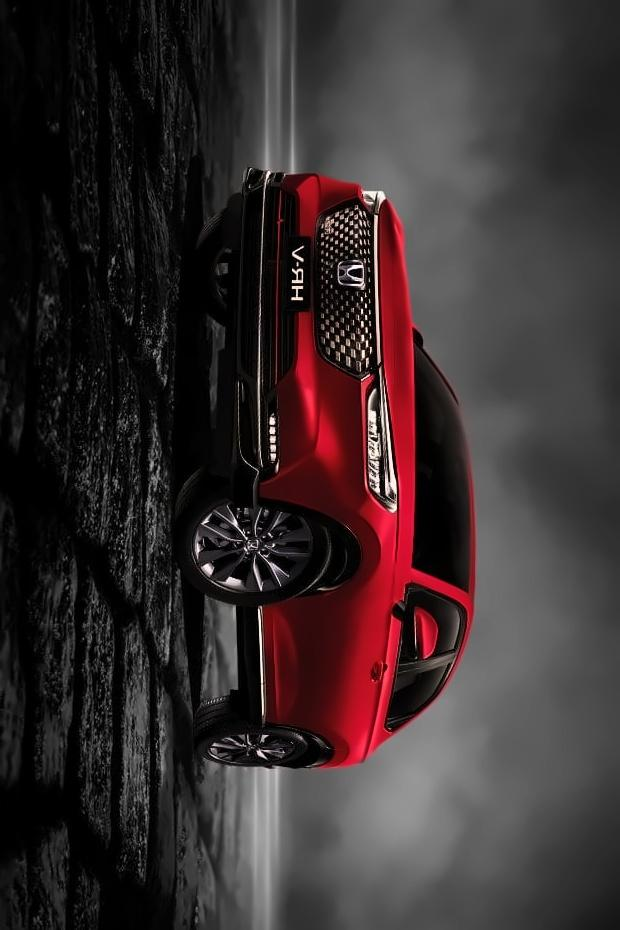Car hood: (369, 190, 422, 540)
Fender - -F-L-: (247, 473, 422, 621)
Front bumper: (232, 160, 367, 520)
Headlight - -L-: (359, 374, 401, 520)
Headlight - -R-: (354, 179, 390, 213)
Passenger-s door - -F-L-: (243, 562, 472, 686)
Passenger-s door - -R-L-: (244, 644, 475, 747)
Side bumper - -L-: (216, 599, 306, 724)
Side mirror - -L-: (392, 597, 443, 668)
